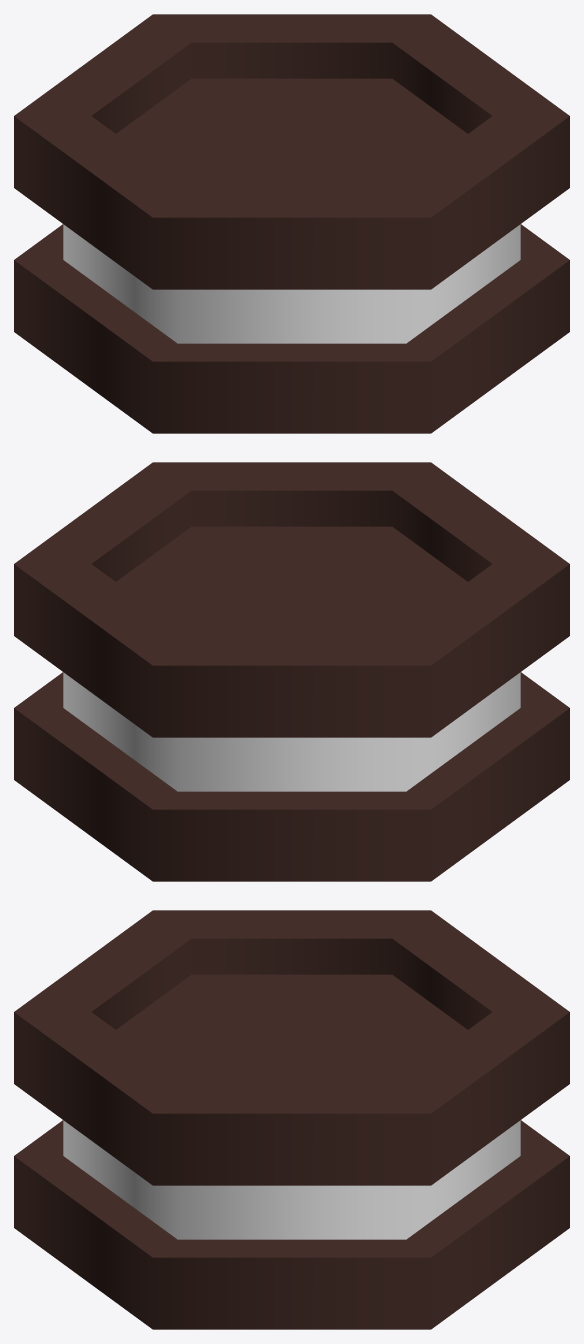
File: cookieChocolate.GLB
3 renders of one model, top to bottom at view 1: azimuth 30°, elevation 25°; view 2: azimuth 150°, elevation 25°; view 3: azimuth 270°, elevation 25°, orthographic.
Visible parts, largest first — view 1: cookieChocolate; view 2: cookieChocolate; view 3: cookieChocolate.
Part boxes in pixels (x1,y1,x2,y2): cookieChocolate: (14,14,569,433); cookieChocolate: (14,462,569,881); cookieChocolate: (14,910,569,1329).
Size of the model in its own units: 0.1212 by 0.06 by 0.14.
